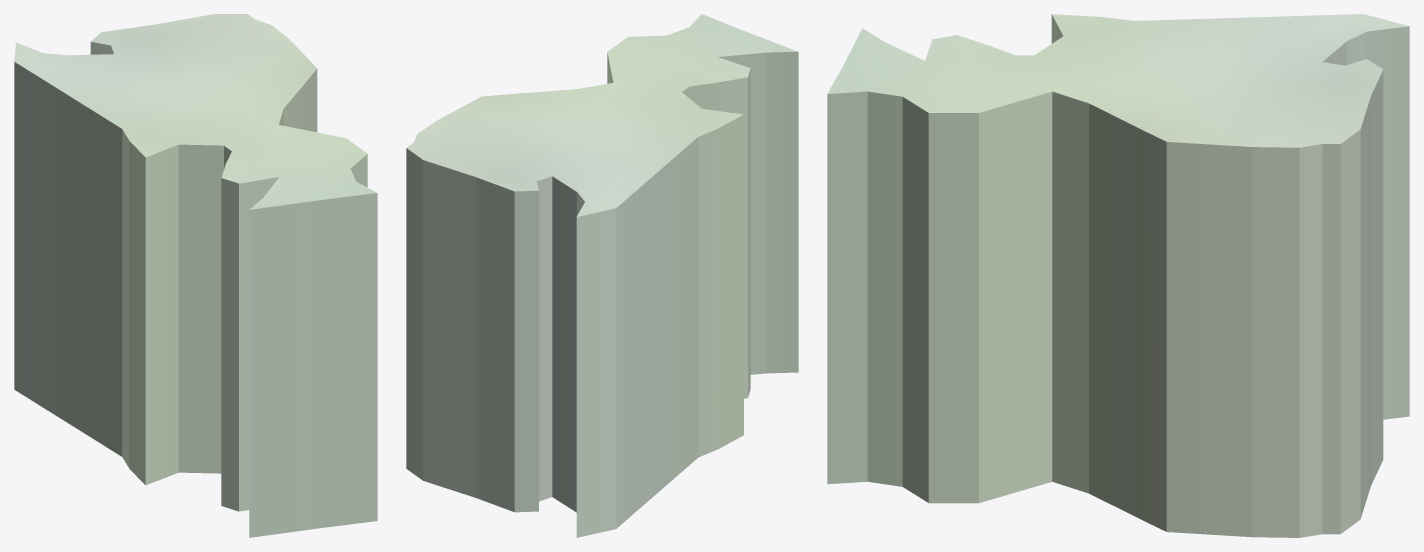
File: matawan.glb
3 renders of one model, left to right at view 1: azimuth 30°, elevation 25°; view 2: azimuth 150°, elevation 25°; view 3: azimuth 270°, elevation 25°, orthographic. The views are drawn at different scales.
Parts seen in each view (by area): view 1: Plane.075; view 2: Plane.075; view 3: Plane.075.
Part boxes in pixels (bbox=[...]): Plane.075: bbox=[14, 14, 377, 537]; Plane.075: bbox=[406, 14, 798, 537]; Plane.075: bbox=[827, 14, 1409, 537].
Size of the model in its own units: 0.2835 by 0.3856 by 0.5217.
Materials: 1 (1 with a texture image).
